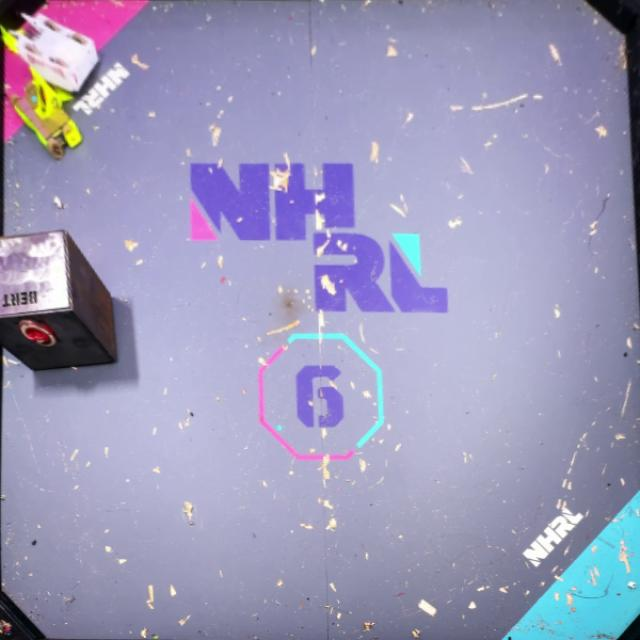housebot: (0, 225, 123, 379)
robot: (1, 69, 92, 165), (12, 8, 102, 102)
